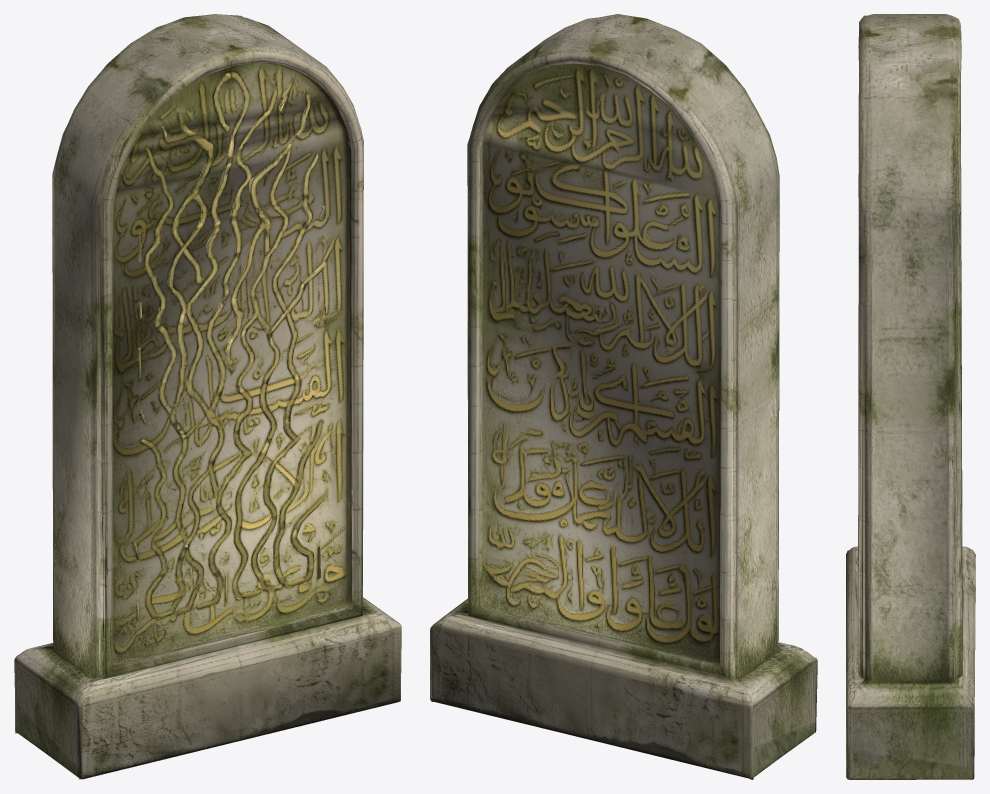
File: Meshy_AI_Arched_Arabic_Calligr_0721143608_texture.fbx
3 views of the same model, side by side, from view 1: azimuth 30°, elevation 25°; view 2: azimuth 150°, elevation 25°; view 3: azimuth 270°, elevation 25° (orthographic).
Parts seen in each view (by area): view 1: Mesh_0; view 2: Mesh_0; view 3: Mesh_0.
Boxes of the visible parts, bbox=[...] form: Mesh_0: bbox=[14, 14, 401, 779]; Mesh_0: bbox=[430, 14, 817, 779]; Mesh_0: bbox=[846, 14, 975, 779].
Size of the model in its own units: 49.8 by 100 by 17.48.
Materials: 1 (1 with a texture image).
